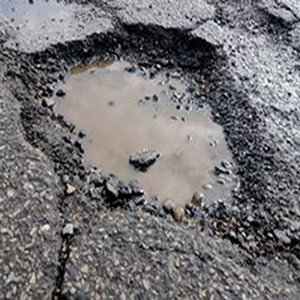pothole: (14, 24, 264, 243)
